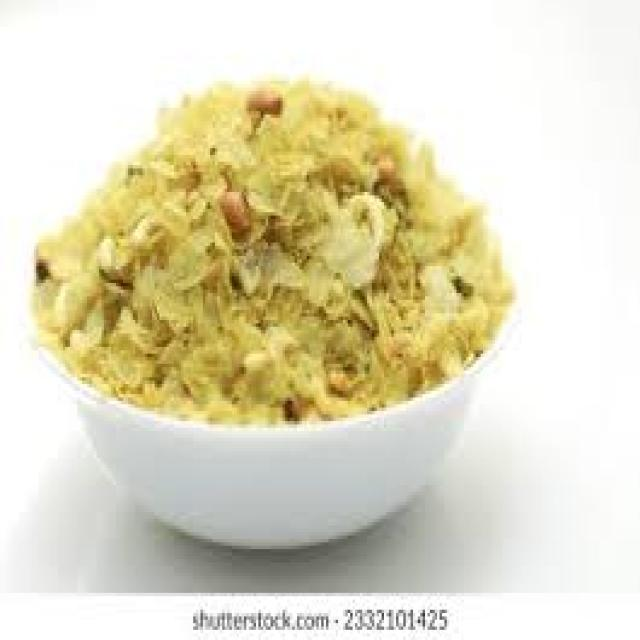POHA: (31, 77, 520, 424)
